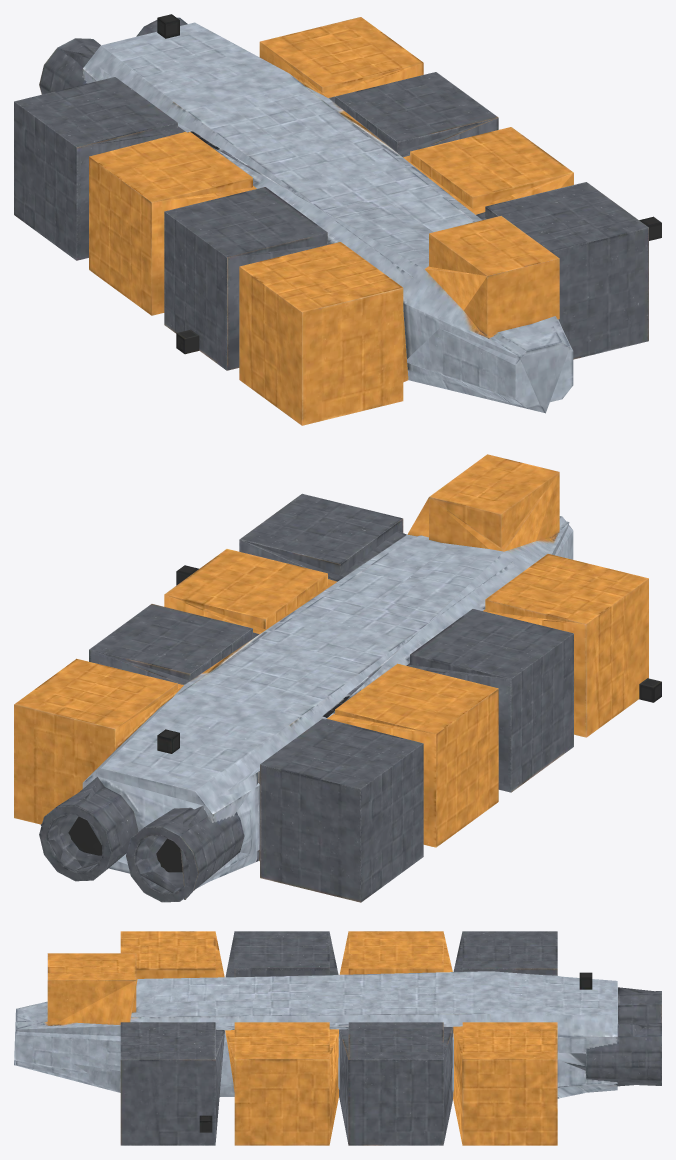
Rendered from sd_npc_cargo.glb.
The picture shows the model from 3 angles, top to bottom: view 1: azimuth 30°, elevation 25°; view 2: azimuth 150°, elevation 25°; view 3: azimuth 270°, elevation 25°; orthographic projection. The views are drawn at different scales.
Parts seen in each view (by area): view 1: LOD0_body, LOD1_body; view 2: LOD0_body, LOD1_body; view 3: LOD0_body, LOD1_body.
Part boxes in pixels (x1,y1,x2,y2): LOD0_body: [14, 14, 661, 425]; LOD1_body: [14, 42, 573, 424]; LOD0_body: [14, 454, 661, 902]; LOD1_body: [40, 472, 648, 901]; LOD0_body: [16, 931, 661, 1145]; LOD1_body: [14, 931, 661, 1145].
Size of the model in its own units: 0.6471 by 0.1961 by 1.
Materials: 1 (1 with a texture image).
